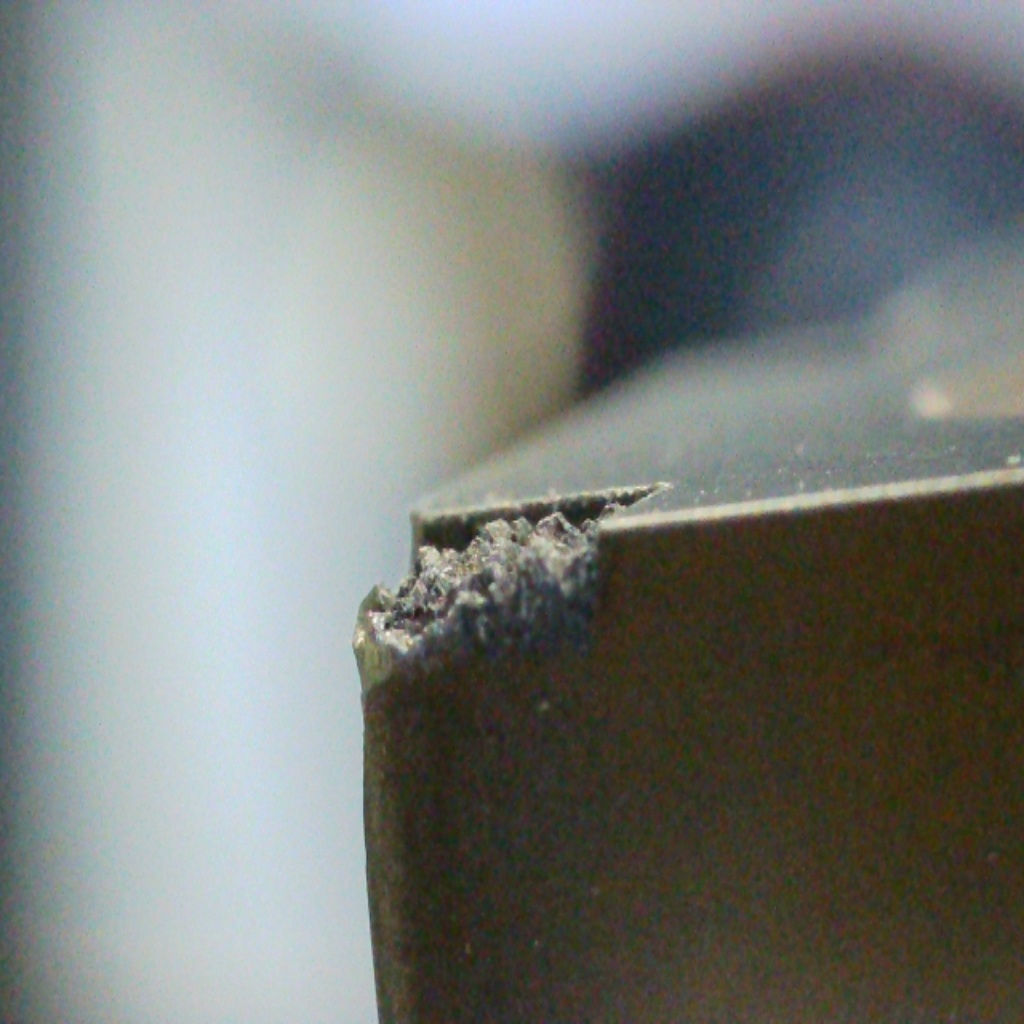flank_wear: (352, 591, 610, 696)
